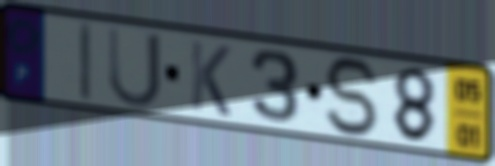3: (246, 47, 303, 127)
8: (390, 65, 440, 146)
I: (77, 20, 94, 105)
K: (188, 37, 233, 121)
S: (321, 54, 384, 141)
U: (105, 24, 164, 111)
